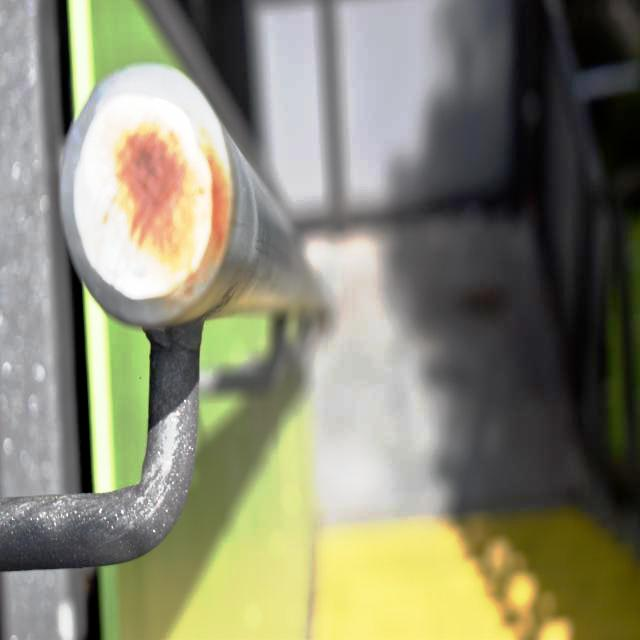Corrosion: (104, 106, 234, 309)
